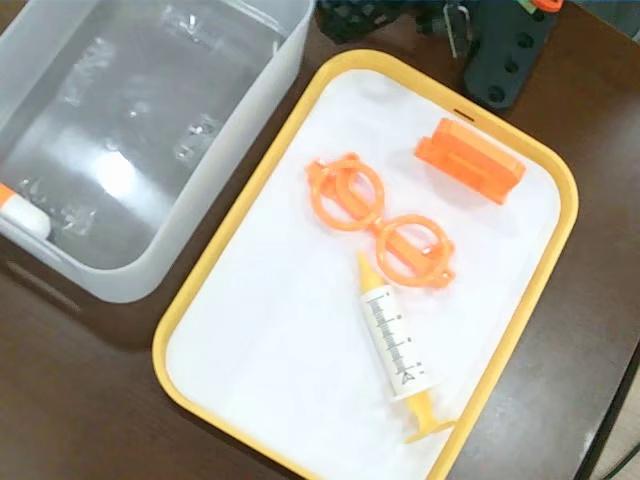pill: (2, 183, 56, 240)
syringe: (352, 251, 457, 441)
